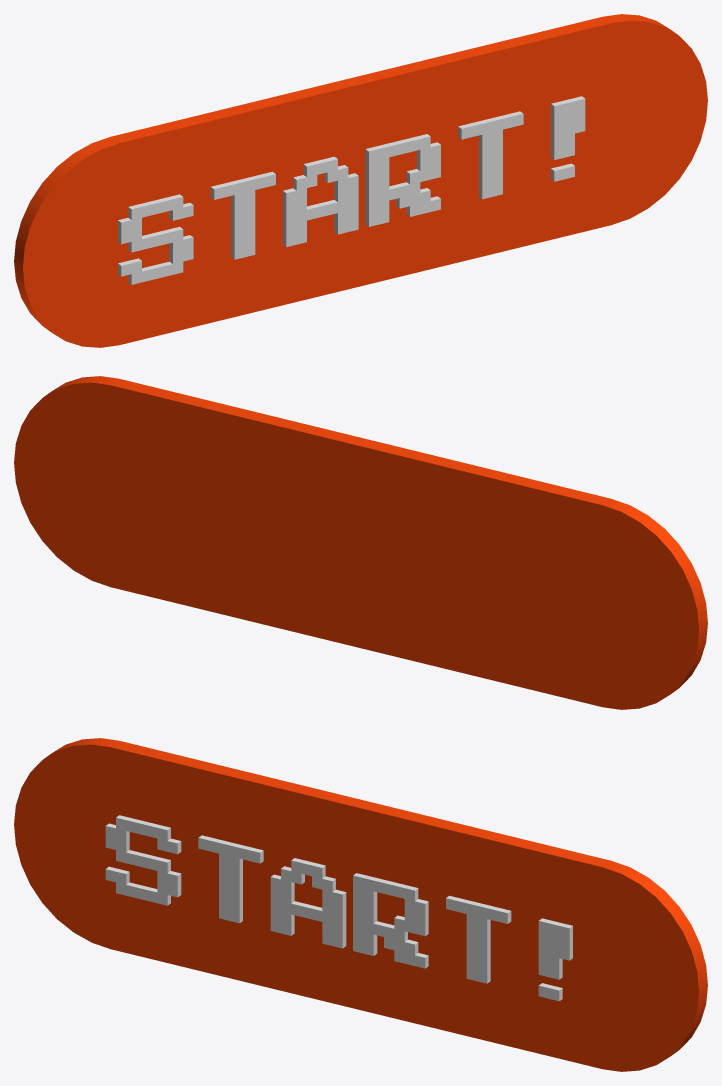
File: startButtonModel.glb
The picture shows the model from 3 angles, top to bottom: view 1: azimuth 30°, elevation 25°; view 2: azimuth 150°, elevation 25°; view 3: azimuth 330°, elevation 25°; orthographic projection.
Parts seen in each view (by area): view 1: Button-start; view 2: Button-start; view 3: Button-start.
Part boxes in pixels (x1,y1,x2,y2): Button-start: (14, 14, 707, 347); Button-start: (14, 376, 707, 709); Button-start: (14, 738, 707, 1071).
Bounding box in the file's own units: 1.63 × 0.458 × 0.0505.
